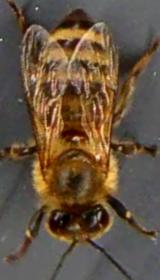varroa_mite: (58, 125, 90, 143)
